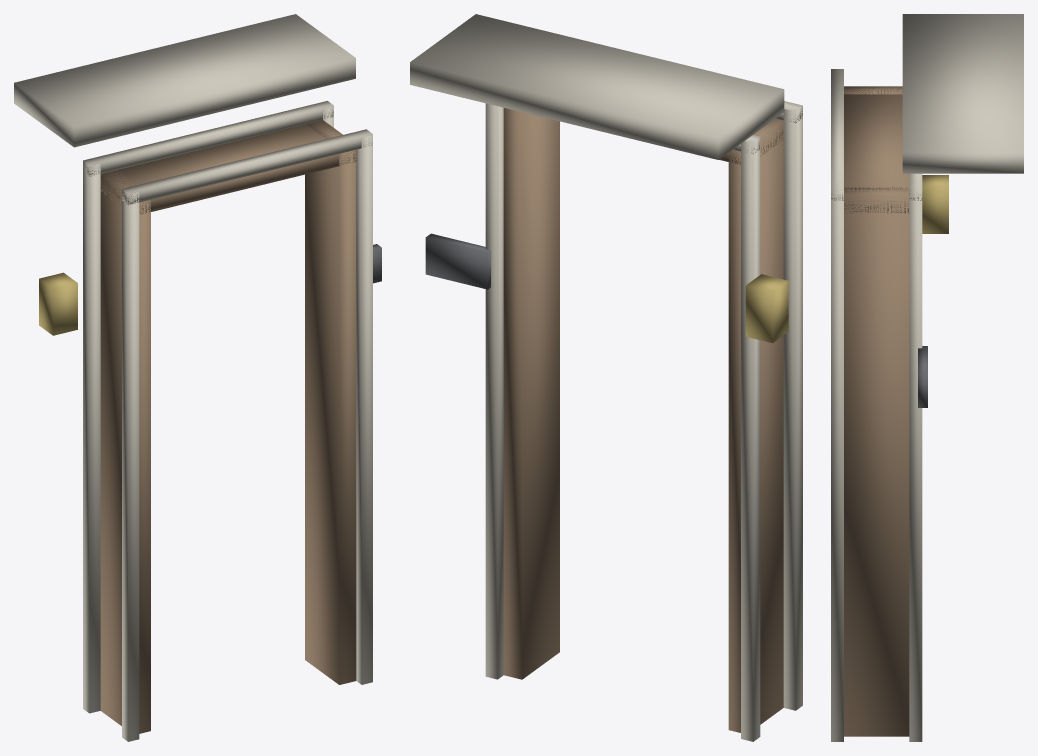
Rendered from doorway_motel_w76_h200_d24.glb.
The picture shows the model from 3 angles, left to right: view 1: azimuth 30°, elevation 25°; view 2: azimuth 150°, elevation 25°; view 3: azimuth 270°, elevation 25°; orthographic projection. The views are drawn at different scales.
Visible parts, largest first — view 1: world; view 2: world; view 3: world.
Part boxes in pixels (<box>): world: <box>14,14,381,741</box>; world: <box>410,14,802,741</box>; world: <box>831,14,1023,741</box>.
Size of the model in its own units: 1.32 by 2.29 by 0.6682.
